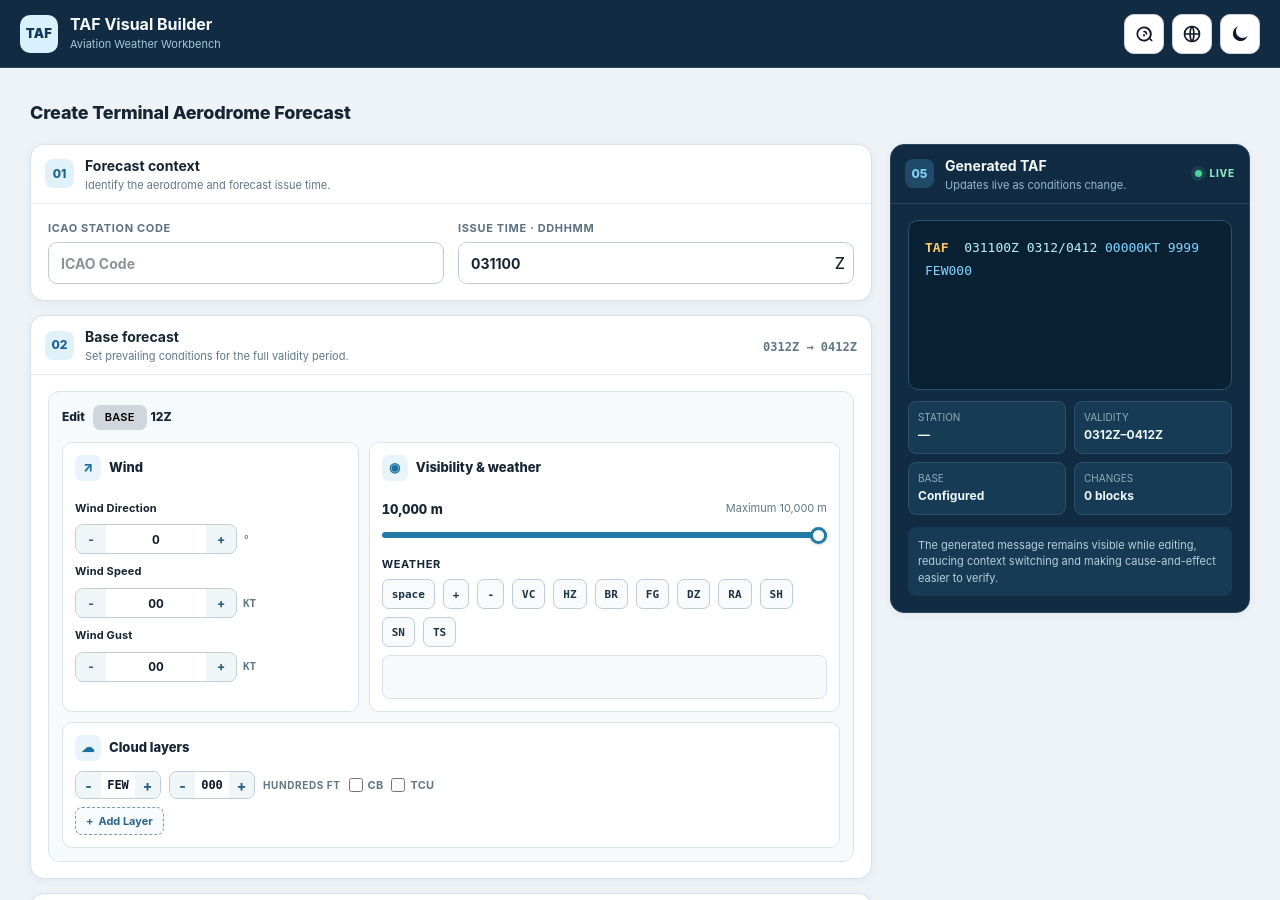
TafBuilder aviation workbench › switches the workbench to Traditional Chinese without clearing editor data
Type "RCTP" into the field labelled "ICAO station code". click: {"x": 246, "y": 263}
box: [48,242,444,284]
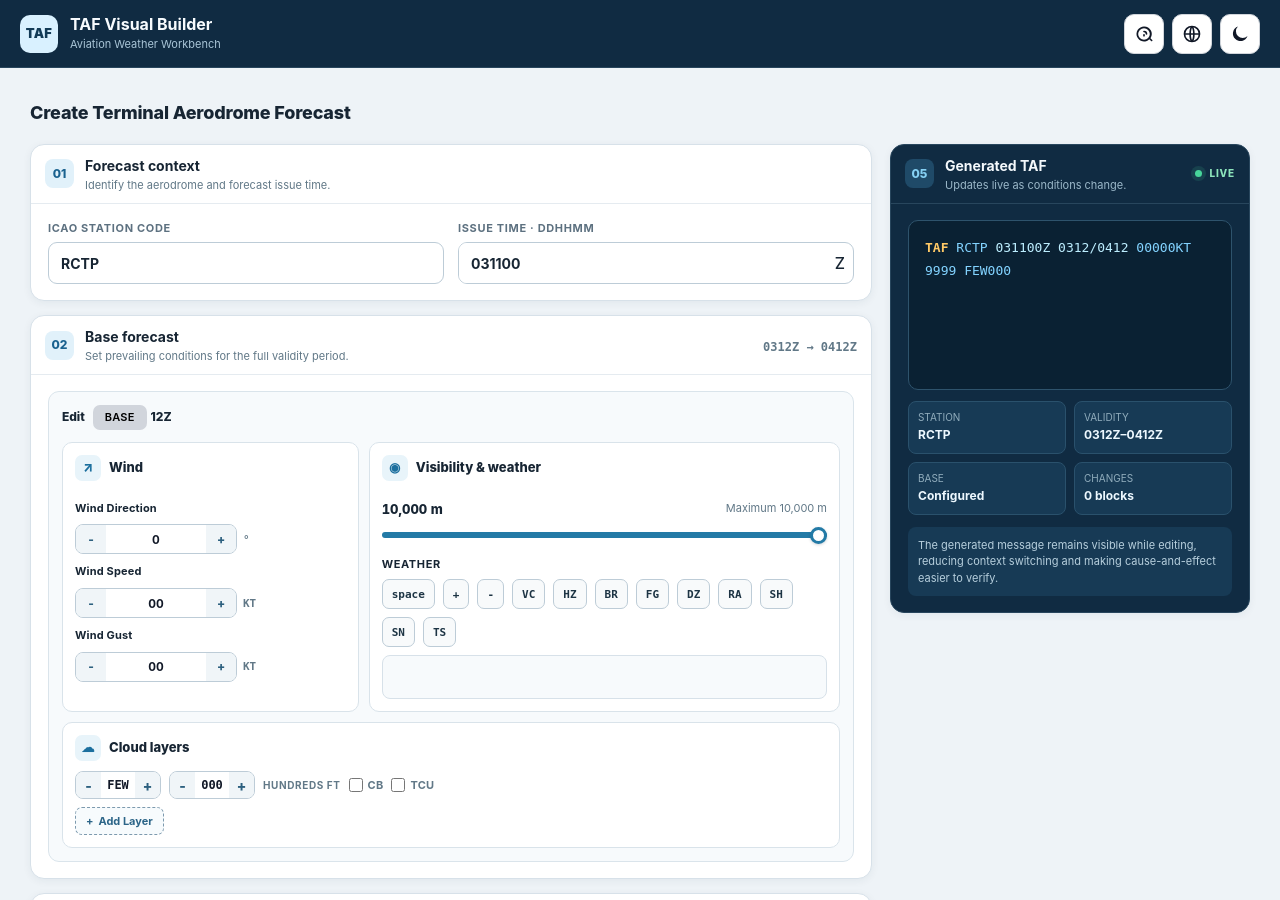
Click the button named "Choose language". click: {"x": 1192, "y": 34}
box: [1172,14,1212,54]
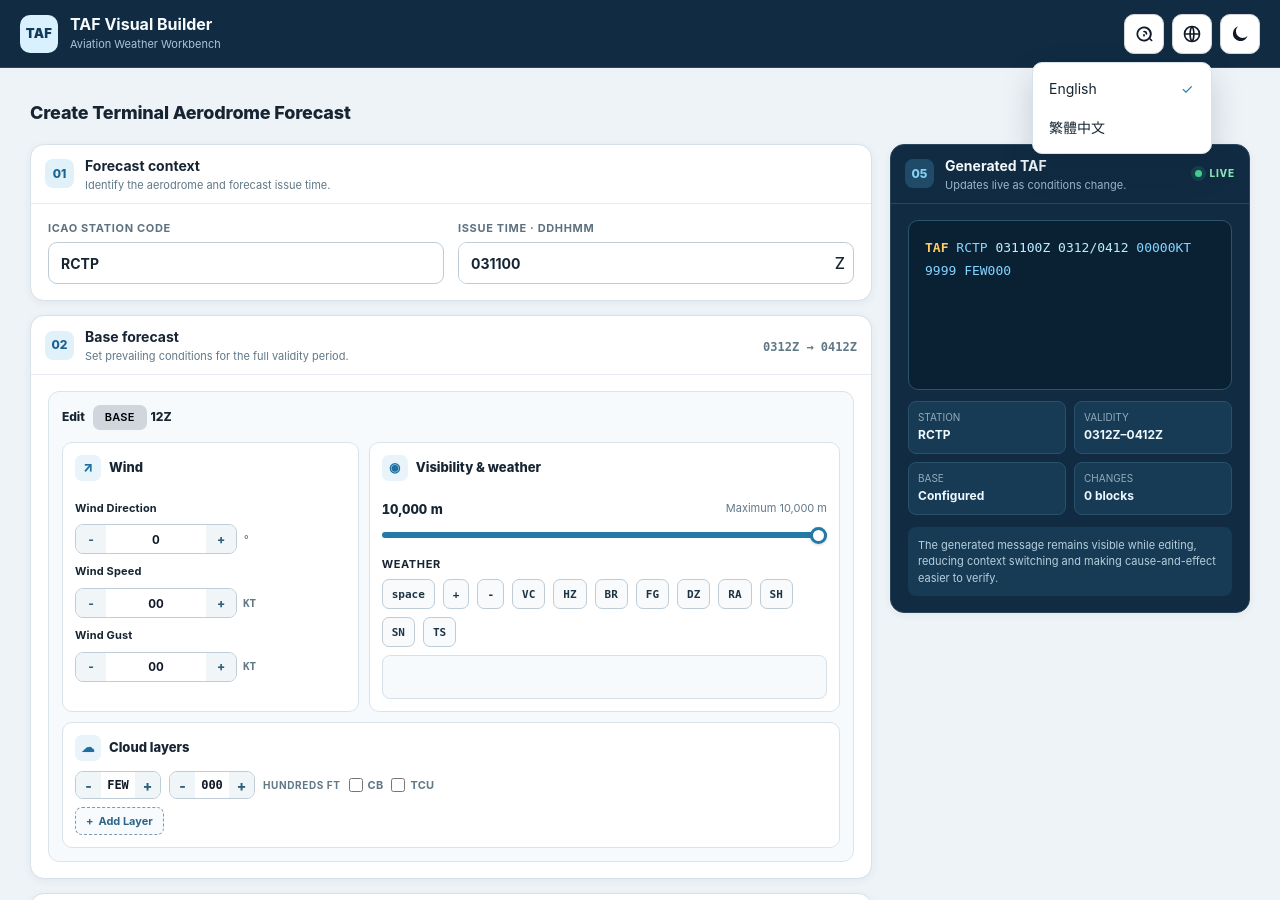
Click the menu item "繁體中文". click: {"x": 1122, "y": 127}
box: [1039,108,1205,146]
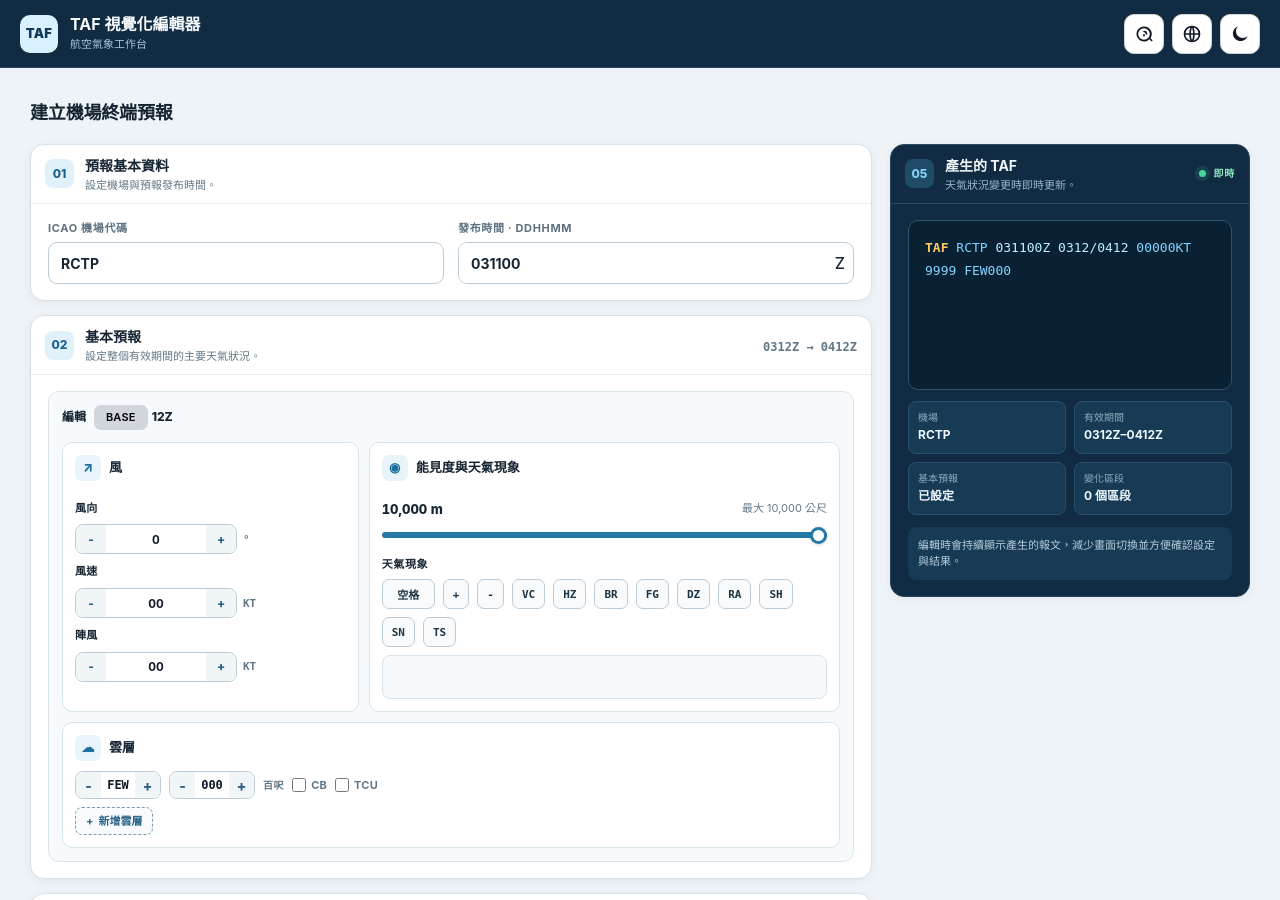
expect the heading "建立機場終端預報" is shown: met, box [30,98,173,126]
expect the heading "基本預報" is shown: met, box [85,328,141,345]
expect the heading "↗ 風" is shown: met, box [75,455,122,481]
